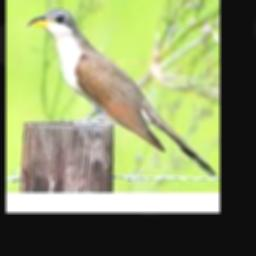Cuckoo: (28, 7, 215, 177)
